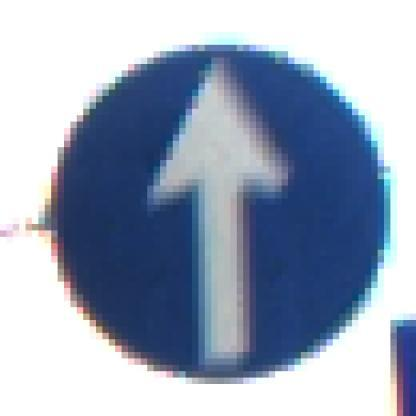straight: (38, 26, 390, 385)
